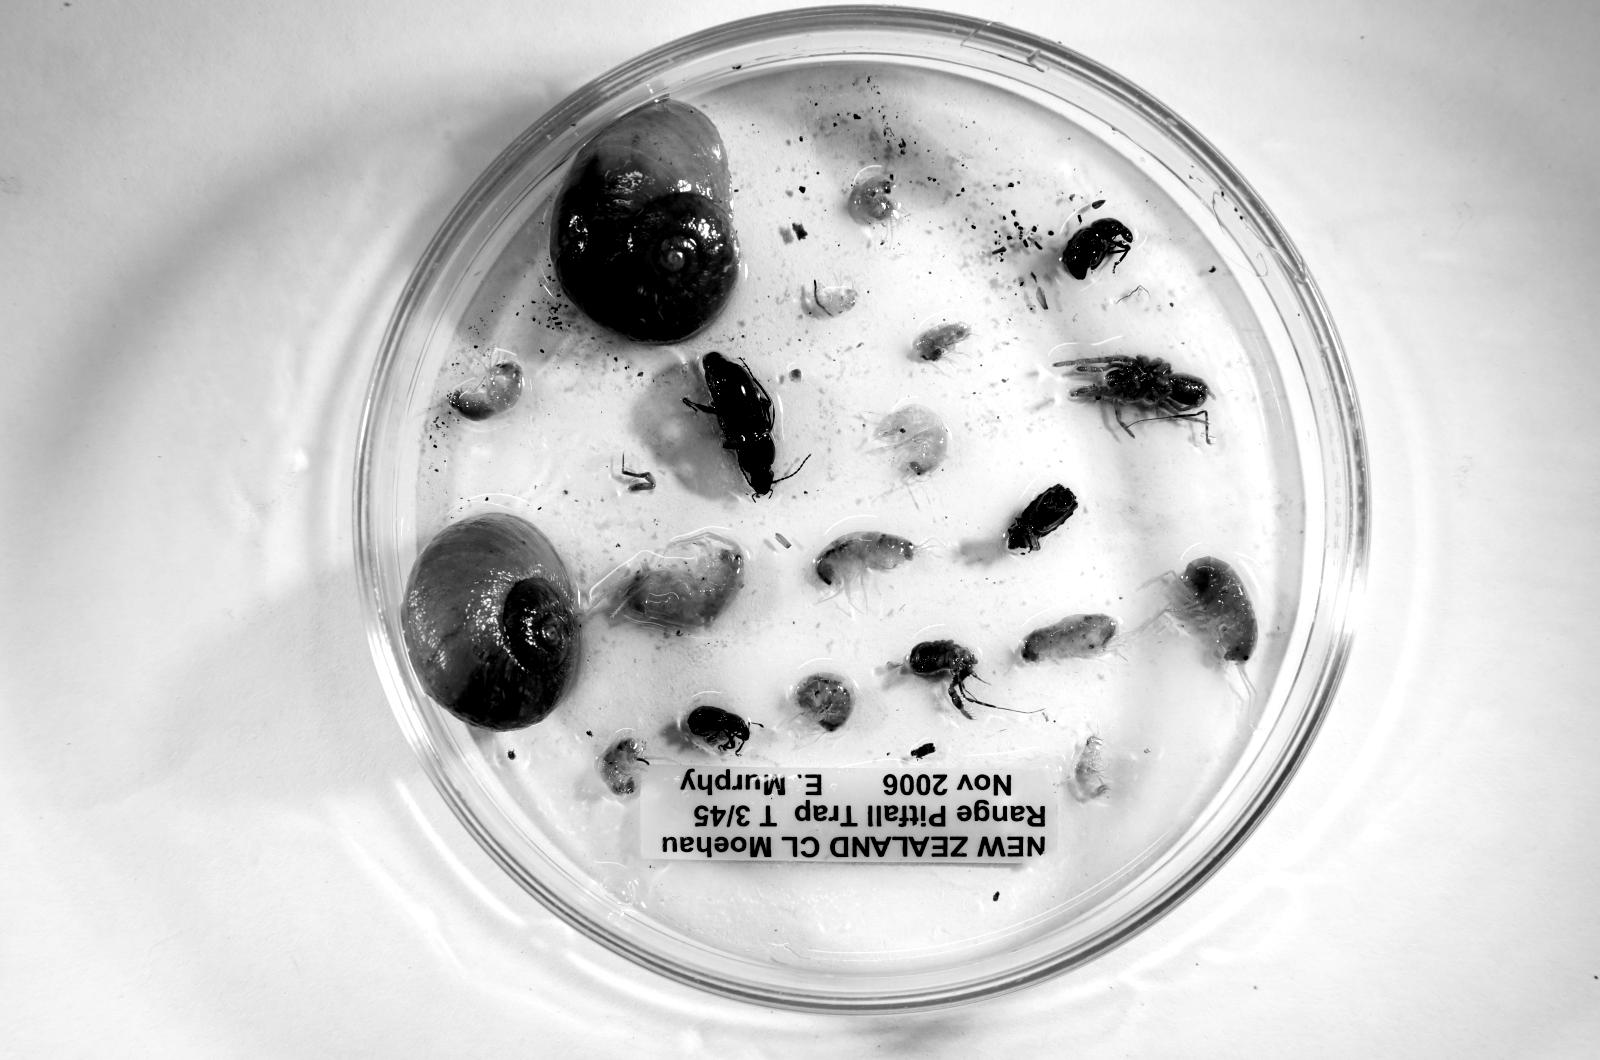amphipoda: (623, 544, 744, 634), (1182, 556, 1257, 666), (814, 532, 914, 589), (875, 404, 949, 476), (1021, 613, 1119, 662), (448, 361, 523, 420), (793, 672, 855, 732), (598, 736, 648, 797), (849, 176, 897, 226), (915, 322, 971, 362), (1074, 735, 1109, 799), (803, 279, 857, 317)
araneae: (1053, 355, 1212, 444)
carabidae: (682, 352, 778, 497)
coleoptera: (1007, 484, 1078, 553), (1061, 218, 1134, 280), (684, 705, 750, 754)
gastropoda: (553, 99, 738, 343), (402, 513, 580, 730)
opiliones: (908, 639, 977, 719)
